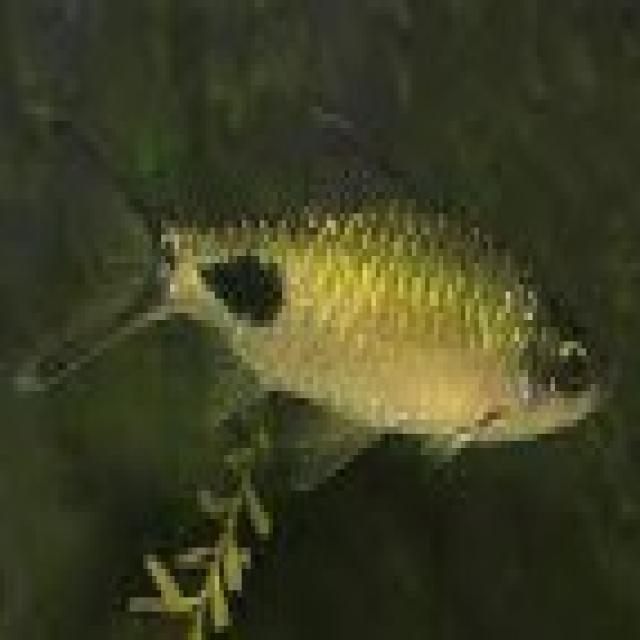Black-Spotted-Barb: (28, 48, 640, 536)
